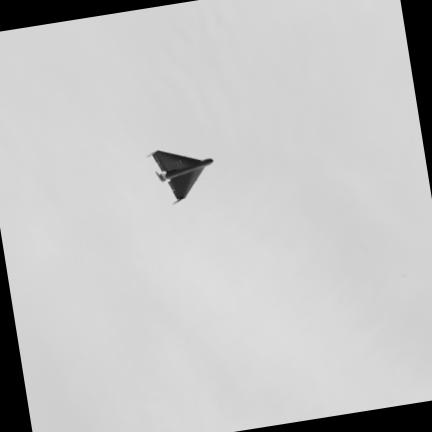Shahed: (150, 151, 212, 202)
